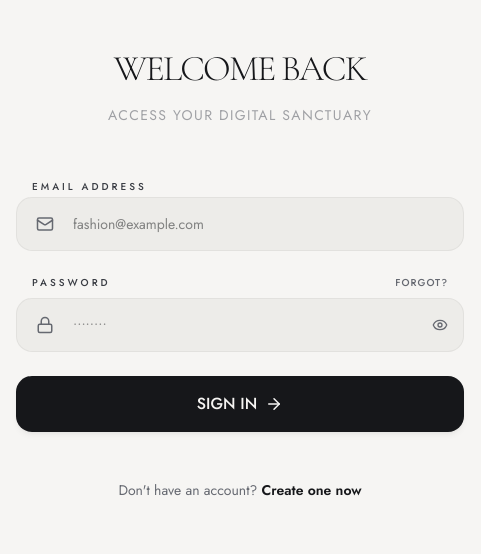
Test: login failures are explained › a wrong email or password shows the server message and the button comes back
Type "nobody@example.com" into the field with placeholder "fashion@example.com".
click(240, 224); type("nobody@example.com")  # box [16,196,464,250]
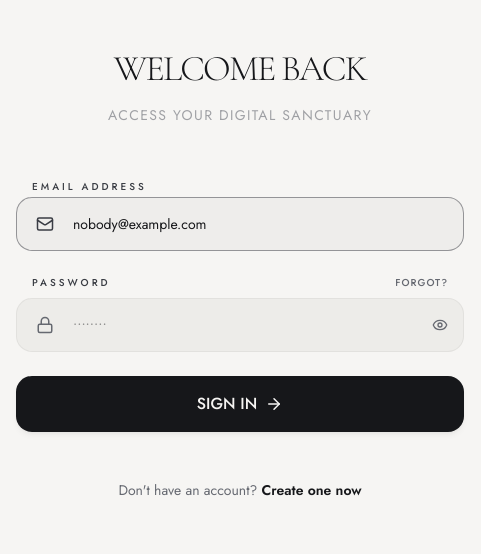
Type "wrong-password" into the password field with placeholder "••••••••".
click(240, 324); type("wrong-password")  # box [16,298,464,352]
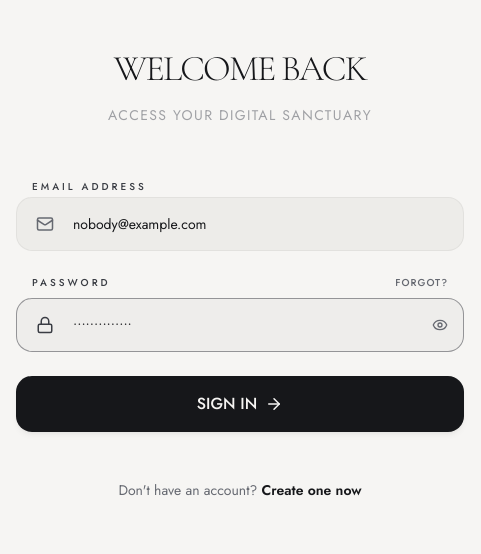
Click the button "SIGN IN".
click(240, 404)  # box [16,376,464,432]
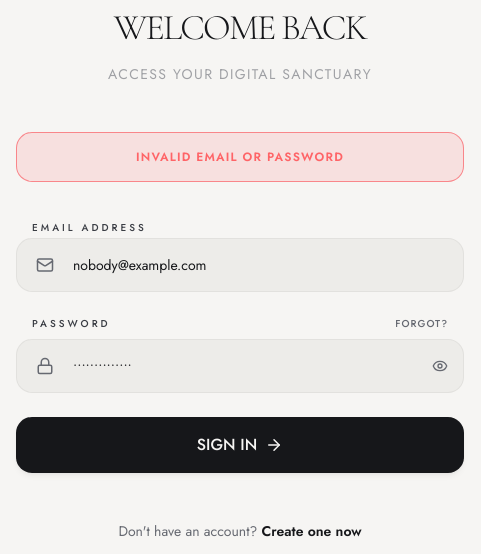
Expected: the button "SIGN IN" is enabled, [16,416,464,472]
Expected: the message reads "Invalid email or password", [136,148,344,166]
